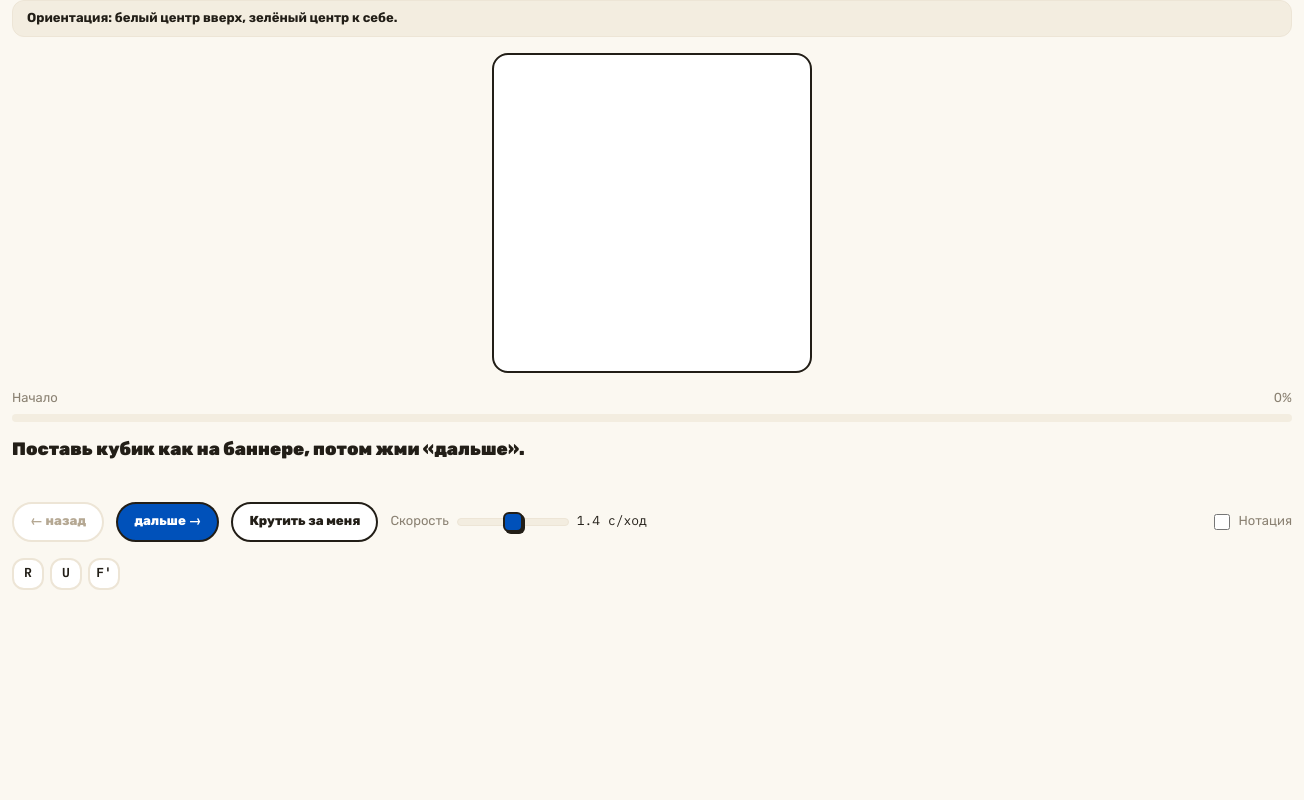
it: ScrambleWalkthrough — автопрокрутка › ручной шаг перехватывает управление у автопрокрутки
Click the button "Крутить за меня". click: [305, 522]
box: [231, 502, 378, 542]
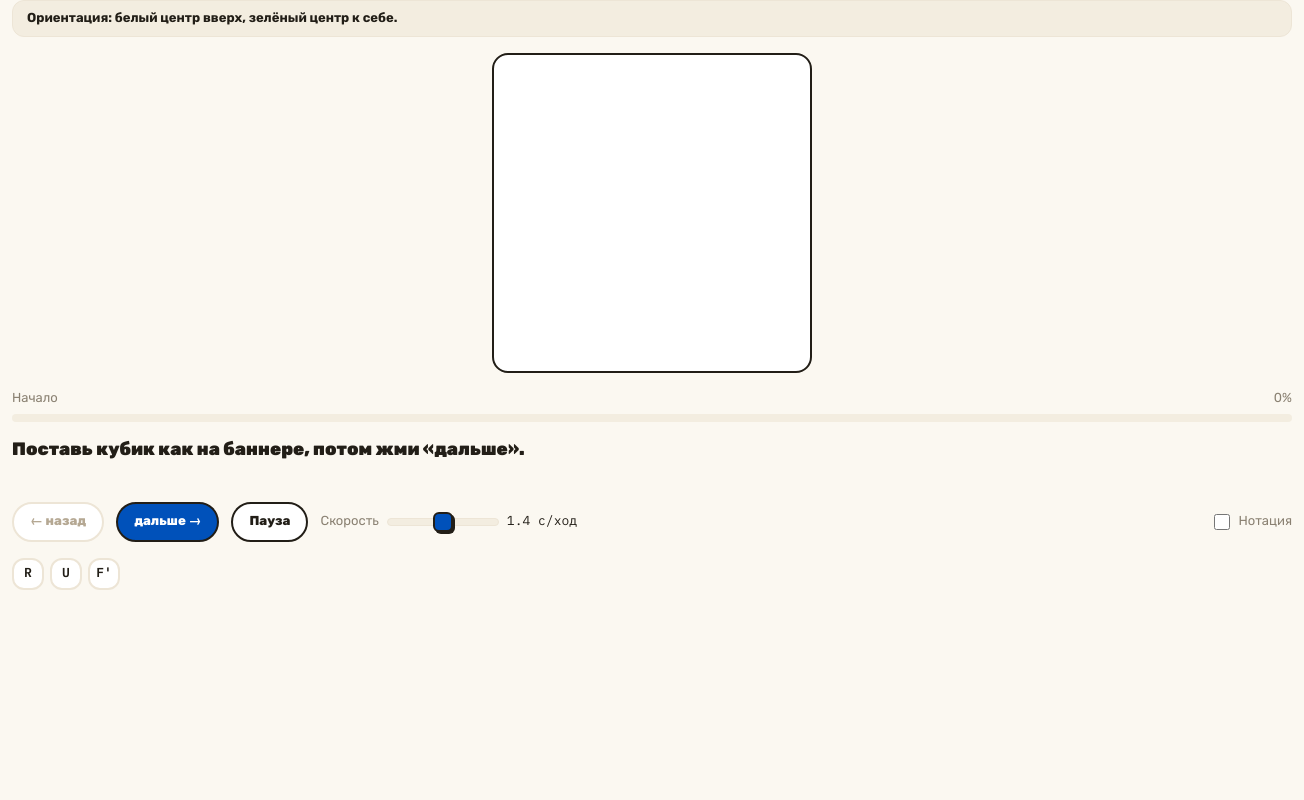
Click the button "дальше →". click: [168, 522]
box: [116, 502, 219, 542]
Wait 7000 ms
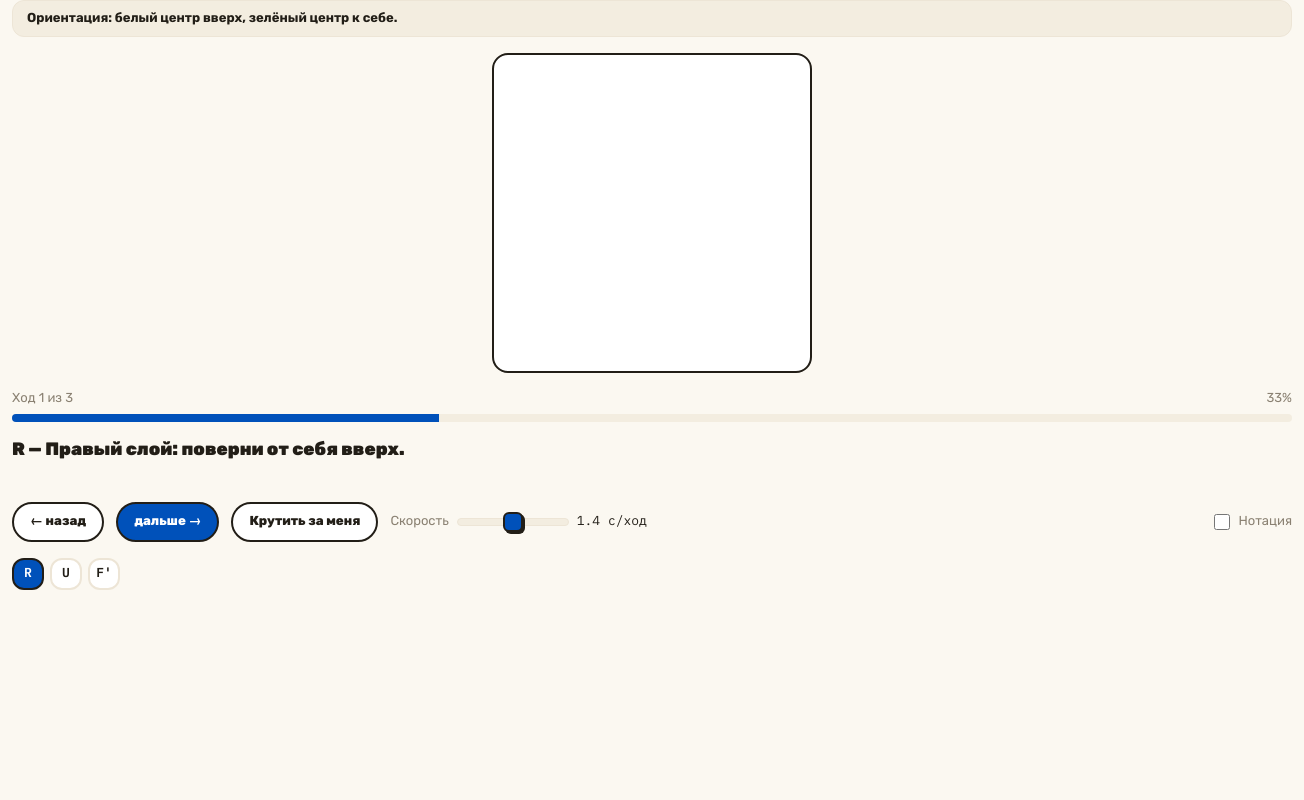
Check: the text "Ход 1 из 3" is shown, box [12, 389, 73, 408]
Check: the button "Крутить за меня" is shown, box [231, 502, 378, 542]
